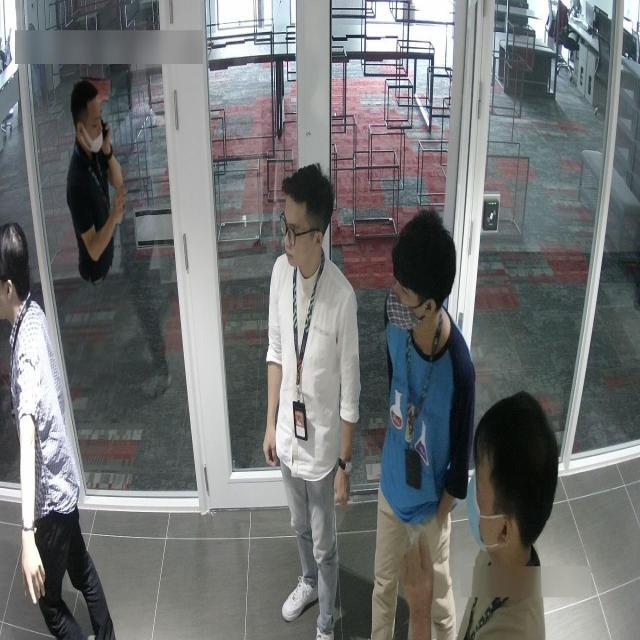hairnet: (78, 80, 108, 158)
